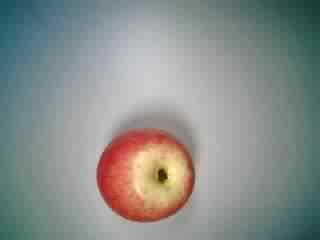apple: (92, 124, 198, 223)
